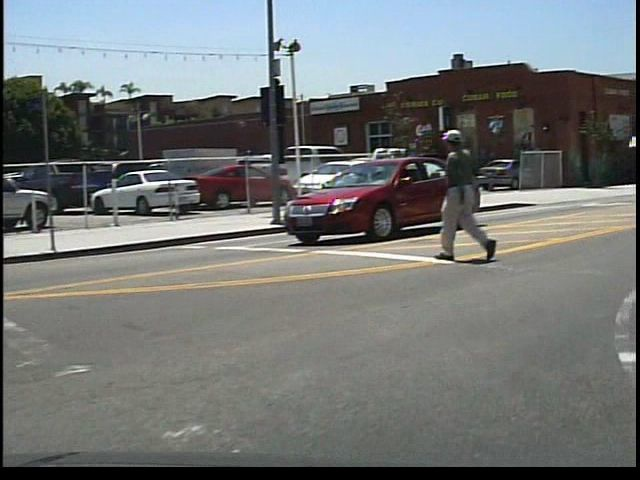person: (442, 116, 507, 269)
